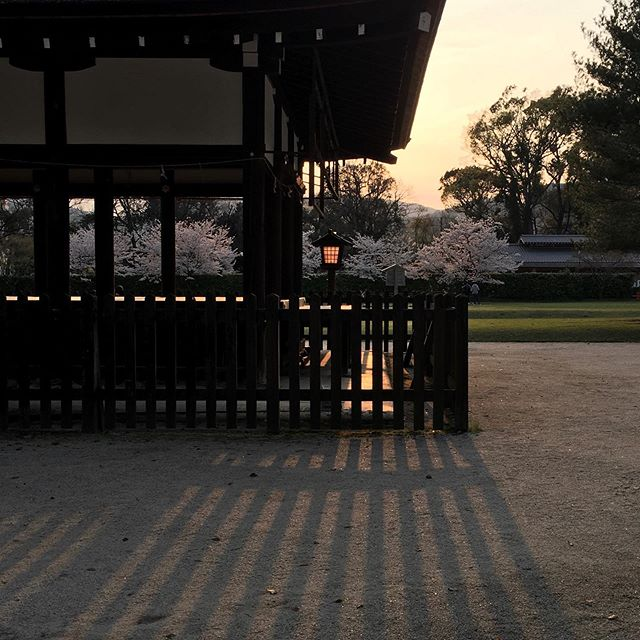building: (1, 1, 440, 431)
grass: (470, 294, 640, 342)
tree: (560, 21, 640, 236), (456, 89, 563, 233), (412, 208, 520, 295)
